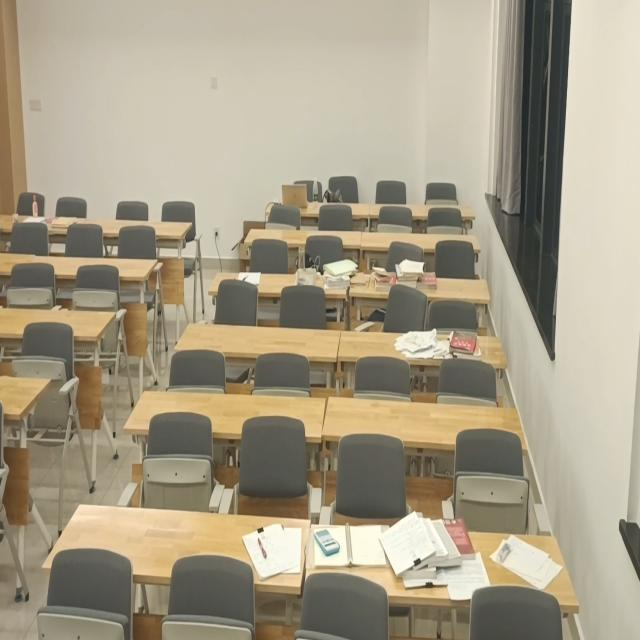Non-empty: (43, 504, 311, 593), (304, 525, 575, 608), (336, 331, 505, 370), (210, 265, 355, 299), (349, 273, 490, 304), (267, 198, 370, 220), (0, 209, 79, 230)
empty: (323, 388, 527, 447), (126, 389, 327, 445), (172, 318, 342, 360), (8, 254, 160, 282), (1, 306, 117, 340), (67, 214, 193, 237), (245, 226, 364, 248), (2, 368, 50, 419), (364, 232, 482, 250), (370, 200, 475, 219)
